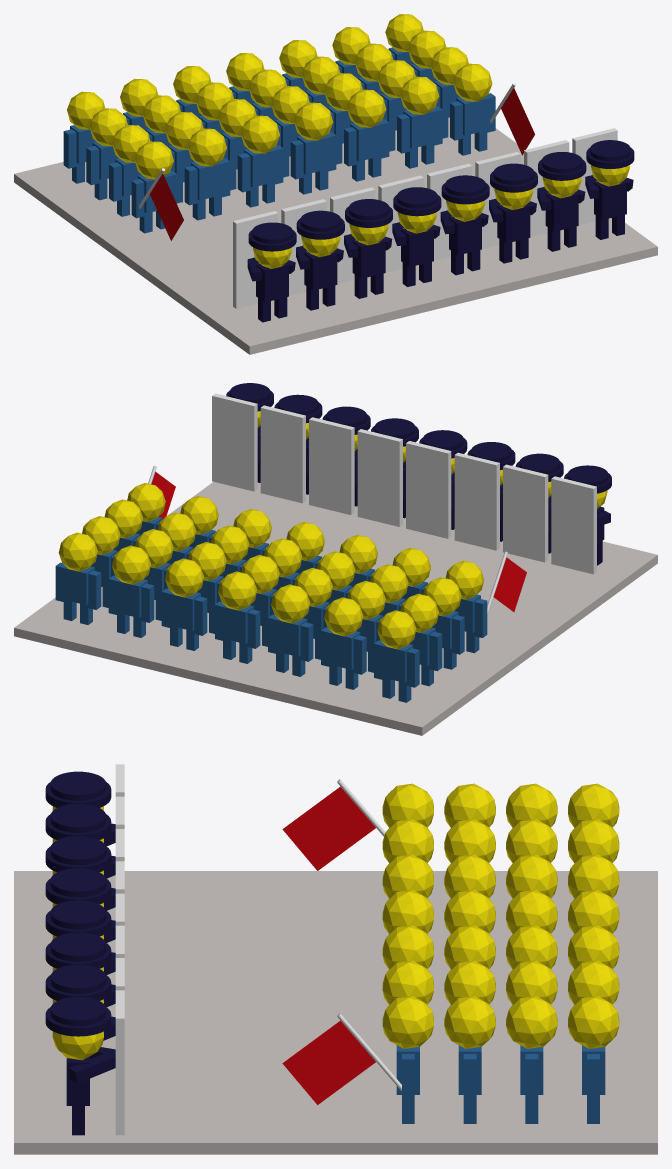
Rendered from modern.glb.
3 views of the same model, one above another, from view 1: azimuth 30°, elevation 25°; view 2: azimuth 150°, elevation 25°; view 3: azimuth 270°, elevation 25° (orthographic). The views are drawn at different scales.
Visible parts, largest first — view 1: Worker, Soldier, Base, Flag, Flag.003; view 2: Worker, Soldier, Base, Flag, Flag.003; view 3: Base, Worker, Soldier, Flag.003, Flag.
Boxes of the visible parts, left/top/right/bottom form: Worker: left=63, top=14, right=495, bottom=233; Soldier: left=233, top=128, right=634, bottom=322; Base: left=14, top=117, right=657, bottom=354; Flag: left=139, top=168, right=183, bottom=240; Flag.003: left=490, top=82, right=534, bottom=155; Worker: left=55, top=483, right=487, bottom=702; Soldier: left=212, top=383, right=611, bottom=574; Base: left=14, top=481, right=657, bottom=735; Flag: left=487, top=551, right=526, bottom=614; Flag.003: left=148, top=466, right=175, bottom=518; Base: left=14, top=871, right=657, bottom=1154; Worker: left=382, top=783, right=619, bottom=1123; Soldier: left=45, top=764, right=124, bottom=1135; Flag.003: left=282, top=1013, right=401, bottom=1104; Flag: left=282, top=779, right=385, bottom=870.
Bounding box in the file's own units: 10 × 2.3 × 10.
